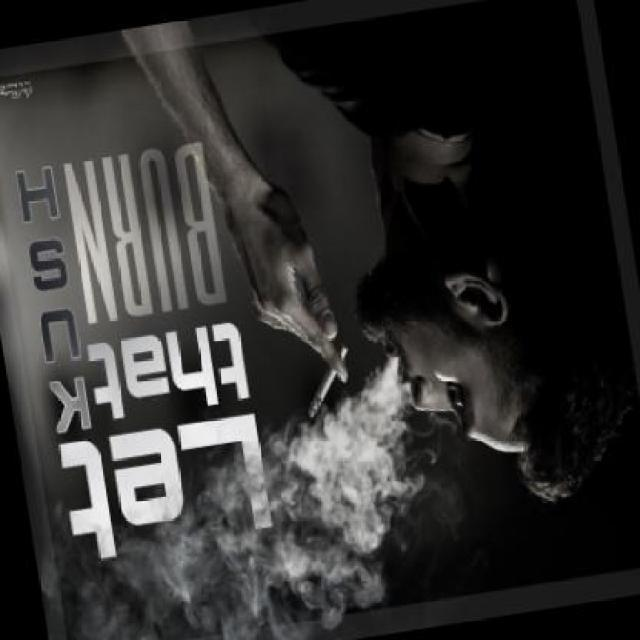cigarette: (296, 341, 356, 416)
